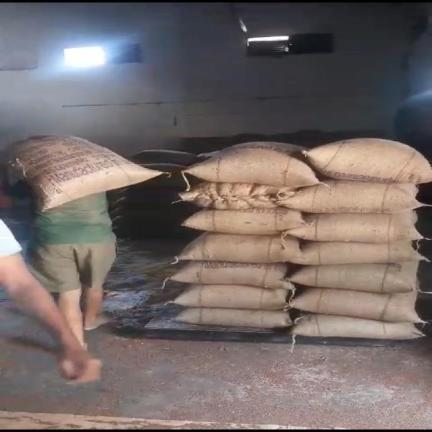Zone-Counting: (14, 137, 161, 347)
